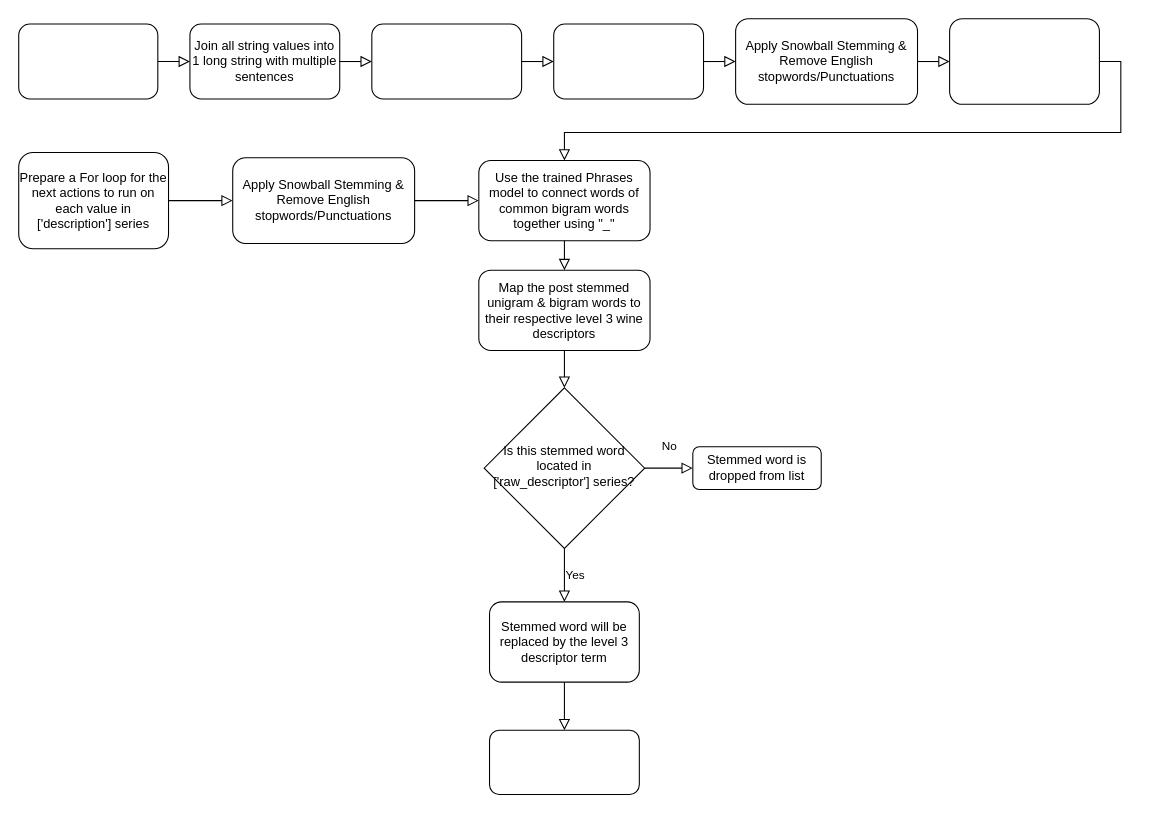
Some shapes in this 1150 by 813 pixel diagram are drawn without their labels. The shapes that lost their labels are listed below. From the top down, each one's centre as x and y in pixels, then its label:
[88,61]: Convert all values in ['description'] series to String
[446,61]: Perform Sentence tokenization on string
[628,61]: Perform Word tokenizaion on each sentence
[1024,61]: Instantiate Phrases model from gensim & train it on tokenized stemmed words
[563,761]: Join back all descriptor terms for each review
